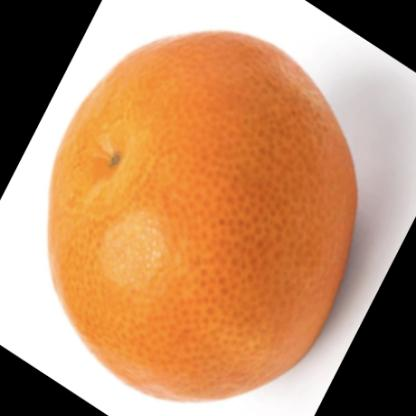fresh: (50, 28, 355, 394)
